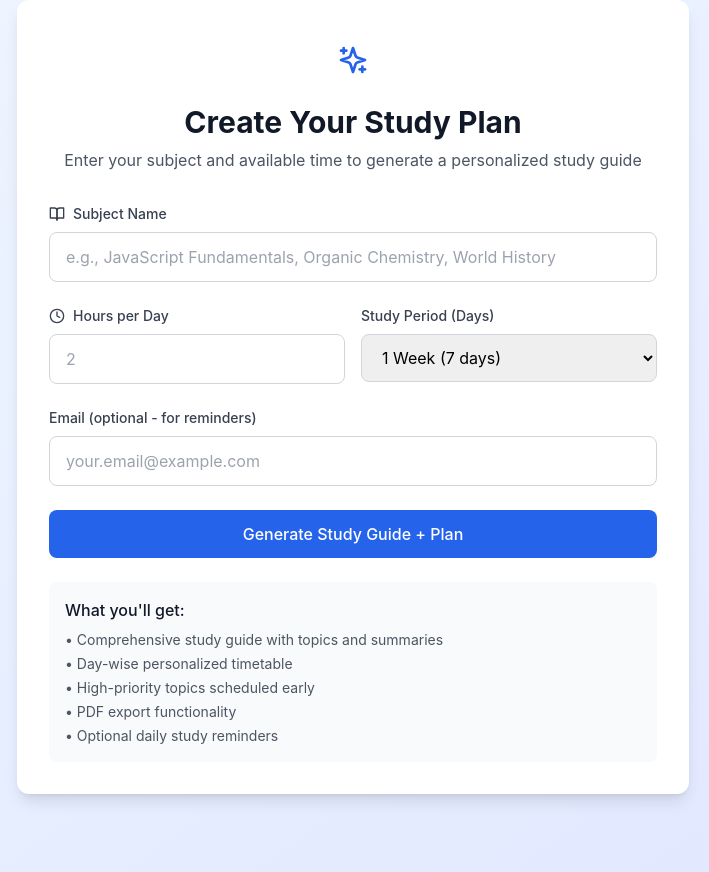
StudyForm › shows error when subject is empty
Click the button "Generate Study Guide + Plan".
click(353, 534)  # box [49,510,657,558]
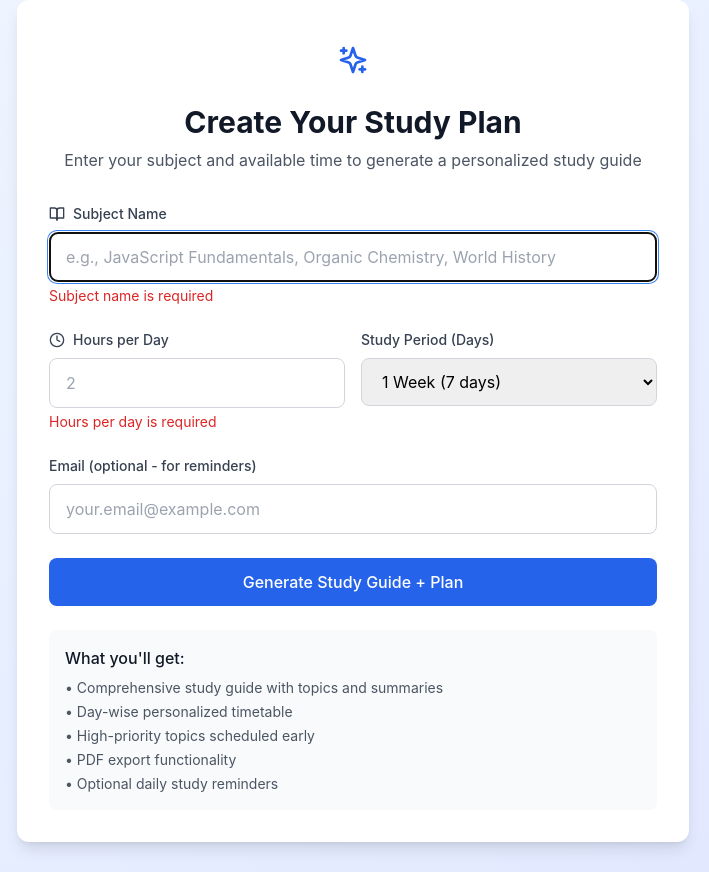
Now the text "Subject name is required" is shown, box [49,287,213,304]
